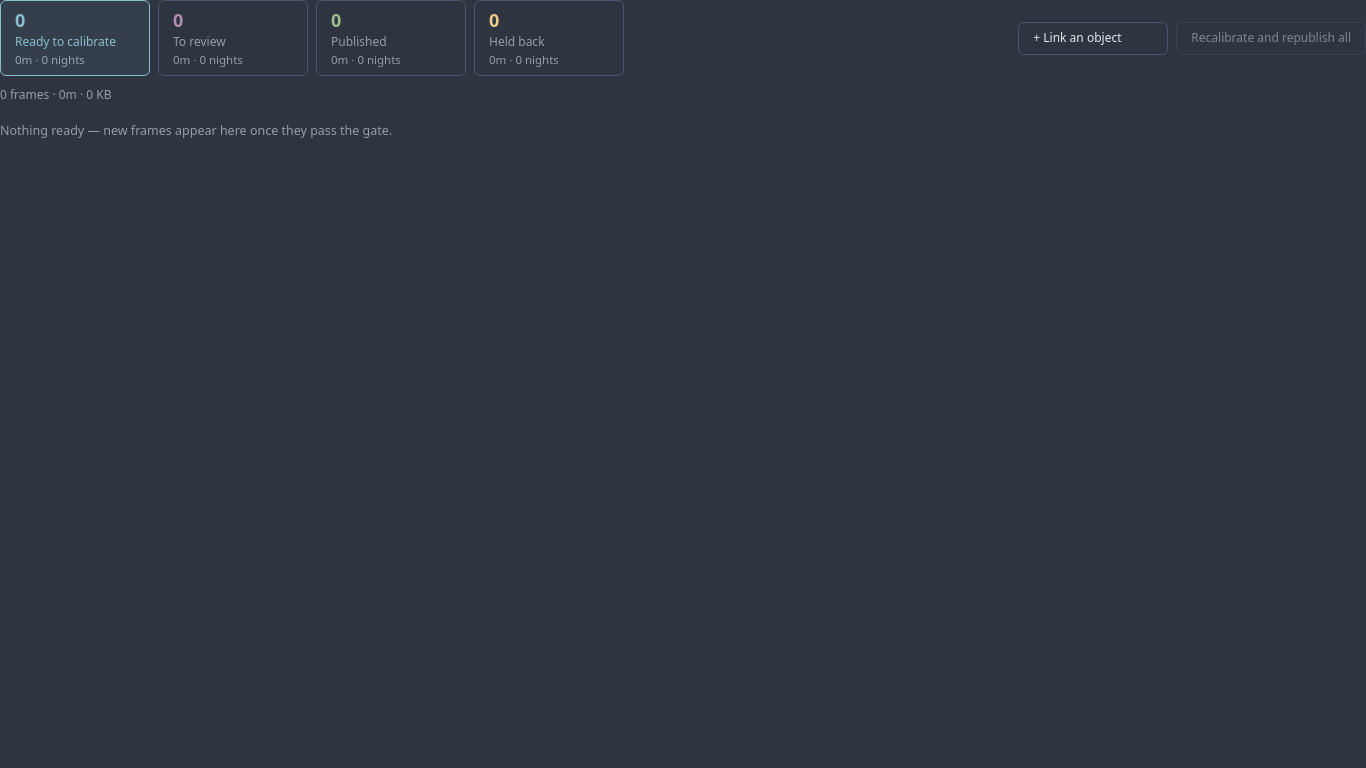
Scenario: MyFramesTab — segments › the link dialog lists the linked objects with their target state
Step 1. Click the button "+ Link an object" → x=1093, y=38, box [1018,22,1168,54]
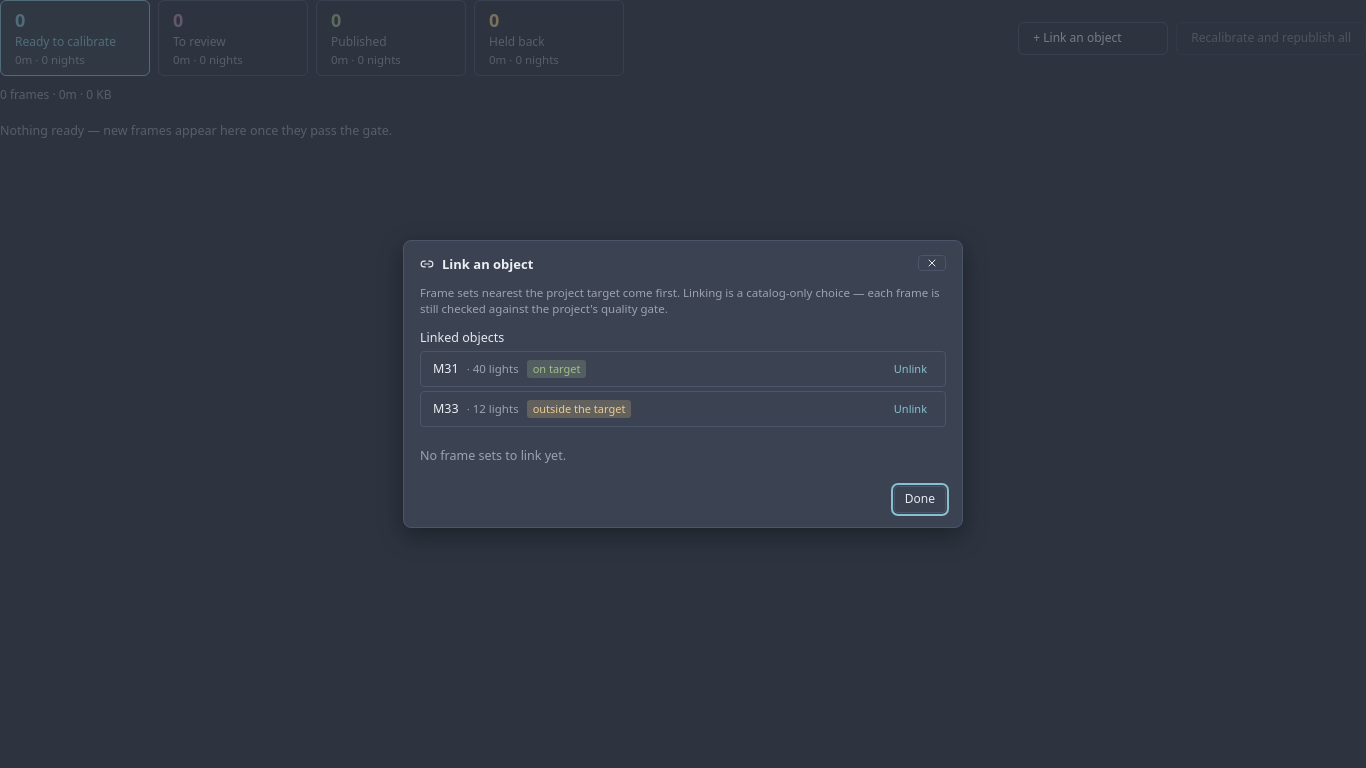
Expected: the text "M31" is shown, [433,360,459,378]
Expected: the text "on target" is shown, [527,360,586,378]
Expected: the text "outside the target" is shown, [527,400,631,418]
